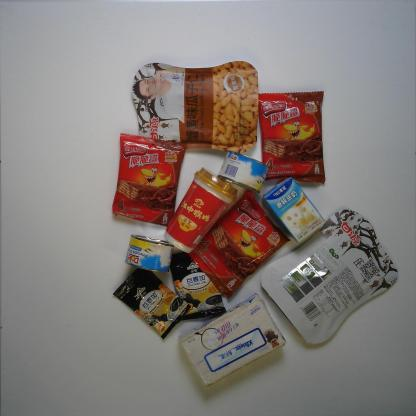Canned Food: (217, 150, 271, 193), (124, 235, 174, 276)
Dessert: (189, 191, 293, 299), (253, 86, 328, 186), (113, 132, 185, 228)
Dried Fruit: (261, 207, 401, 348), (130, 61, 262, 155)
Instant Drink: (161, 166, 238, 255), (115, 268, 192, 342), (167, 248, 227, 321)
Milk: (262, 178, 326, 242)
Tissue: (179, 292, 286, 388)
